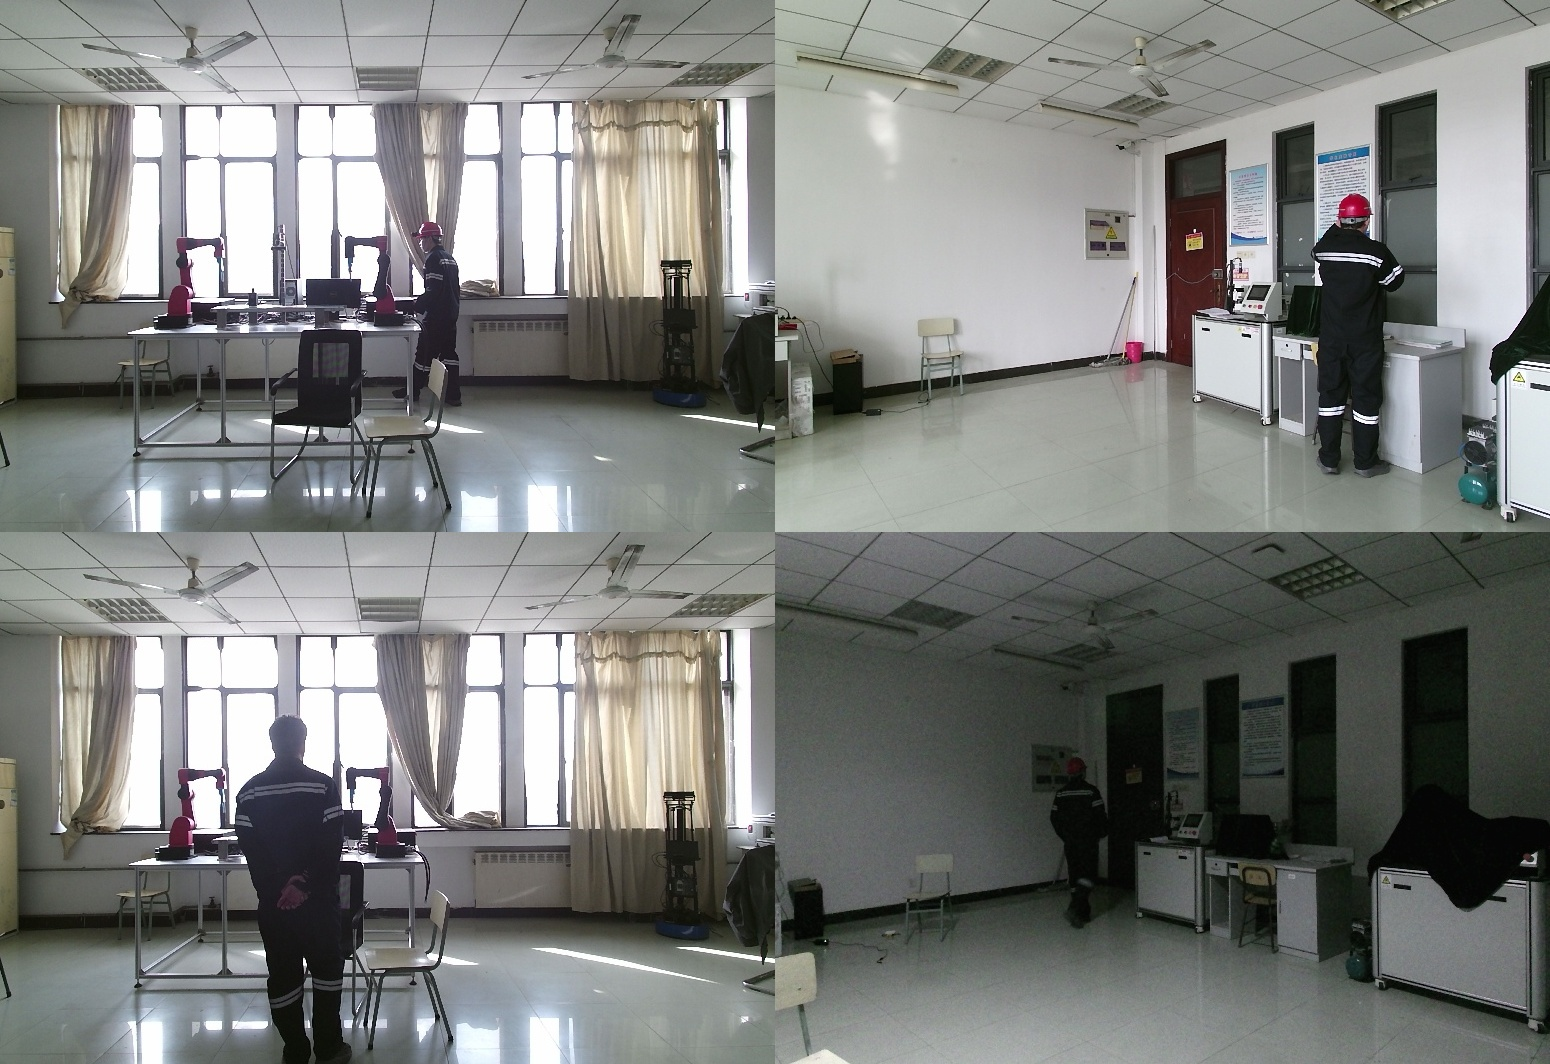person: (233, 717, 361, 1064), (1307, 193, 1426, 474), (396, 224, 469, 409), (1048, 759, 1113, 931)
